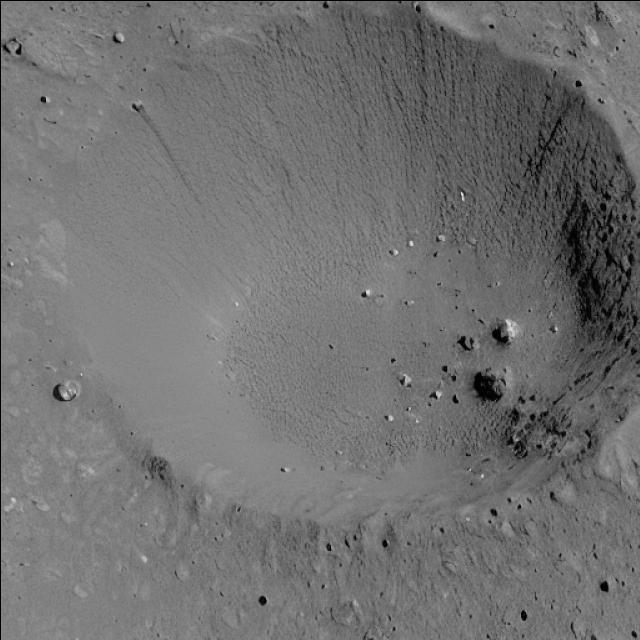crater: (64, 6, 638, 524)
